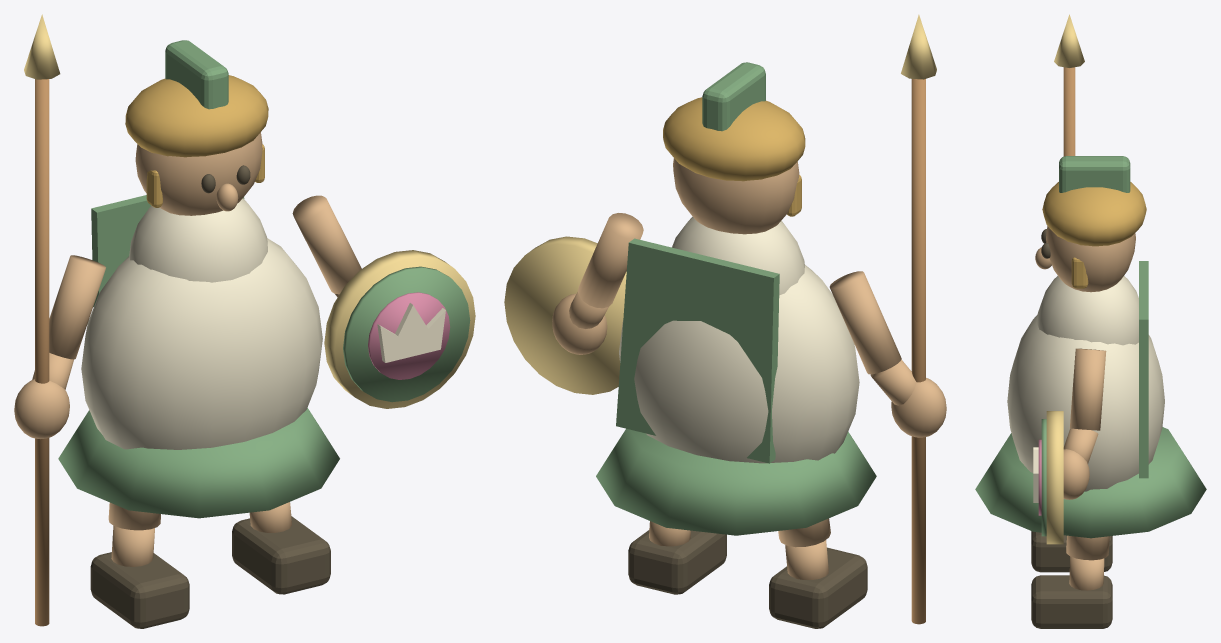
Rendered from pear.glb.
The picture shows the model from 3 angles, left to right: view 1: azimuth 30°, elevation 25°; view 2: azimuth 150°, elevation 25°; view 3: azimuth 270°, elevation 25°; orthographic projection. The views are drawn at different scales.
Parts seen in each view (by area): view 1: belly, skirt.002, chest, helmet.002, shield_face.002, spear.002, foot.-1.002, head.002, foot.003, shield.002, upper_arm.-1.002, upper_arm.003 (+10 smaller); view 2: belly, skirt.002, cape.002, shield.002, helmet.002, spear.002, head.002, foot.-1.002, chest, foot.003, upper_arm.-1.002, upper_arm.003 (+9 smaller); view 3: belly, skirt.002, chest, helmet.002, foot.003, head.002, upper_arm.003, crest.002, shield.002, cape.002, foot.-1.002, spear.002 (+8 smaller).
Boxes of the visible parts, x1,y1,x2,y2 form: belly: (81, 238, 322, 449); skirt.002: (58, 408, 339, 518); chest: (129, 198, 267, 282); helmet.002: (125, 75, 268, 157); shield_face.002: (343, 266, 470, 402); spear.002: (35, 79, 49, 626); foot.-1.002: (90, 552, 189, 628); head.002: (135, 132, 262, 215); foot.003: (232, 516, 330, 594); shield.002: (324, 250, 475, 408); upper_arm.-1.002: (49, 255, 105, 359); upper_arm.003: (292, 195, 361, 294); belly: (619, 265, 859, 463); skirt.002: (596, 428, 876, 535); cape.002: (616, 238, 779, 463); shield.002: (504, 236, 626, 394); helmet.002: (663, 97, 805, 181); spear.002: (911, 79, 925, 624); head.002: (673, 158, 799, 234); foot.-1.002: (769, 547, 867, 628); chest: (672, 216, 804, 295); foot.003: (628, 530, 726, 594); upper_arm.-1.002: (829, 271, 901, 374); upper_arm.003: (577, 213, 643, 308); belly: (1007, 314, 1164, 491); skirt.002: (975, 427, 1206, 538); chest: (1036, 276, 1138, 345); helmet.002: (1042, 182, 1146, 246); foot.003: (1031, 575, 1112, 628); head.002: (1046, 226, 1135, 292); upper_arm.003: (1069, 348, 1106, 430); crest.002: (1059, 156, 1130, 192); shield.002: (1046, 411, 1063, 544); cape.002: (1139, 261, 1148, 478); foot.-1.002: (1031, 531, 1112, 572); spear.002: (1063, 67, 1075, 156).
Bounding box in the file's own units: 1.77 × 2.35 × 0.969.
